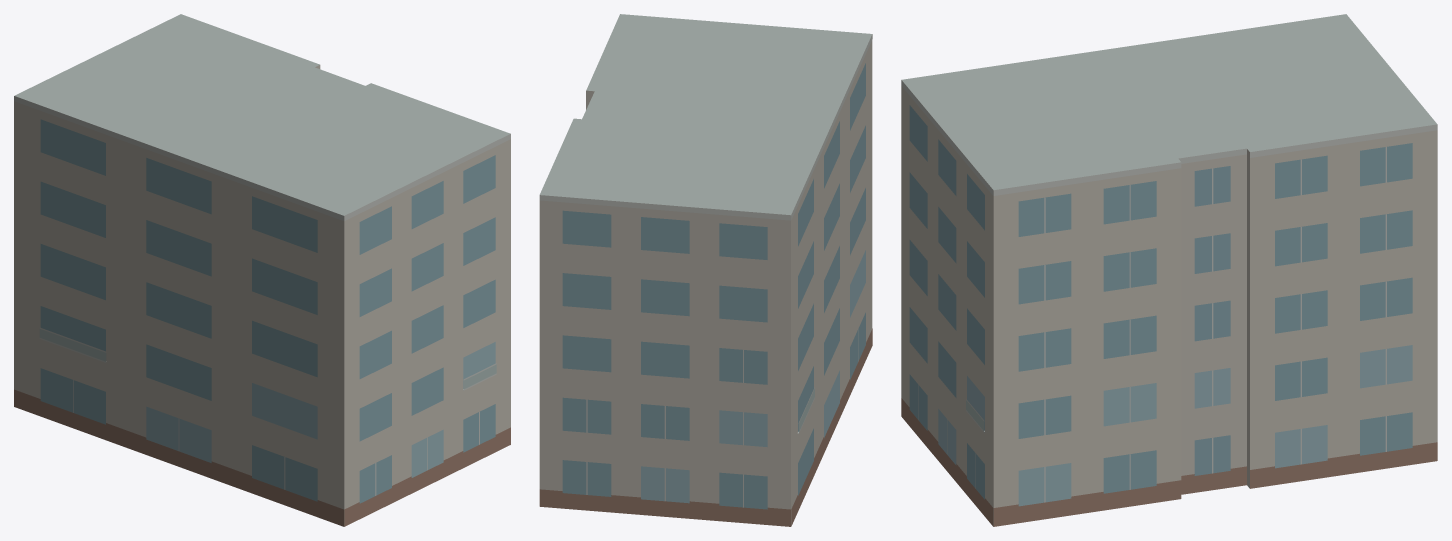
The model's file is survey-upis-32613670.glb.
The picture shows the model from 3 angles, left to right: view 1: azimuth 30°, elevation 25°; view 2: azimuth 150°, elevation 25°; view 3: azimuth 270°, elevation 25°; orthographic projection. The views are drawn at different scales.
Parts seen in each view (by area): view 1: survey-upis-32613670.tmp; view 2: survey-upis-32613670.tmp; view 3: survey-upis-32613670.tmp.
Boxes of the visible parts, x1=… form: survey-upis-32613670.tmp: x1=14, y1=14, x2=510, y2=526; survey-upis-32613670.tmp: x1=539, y1=14, x2=872, y2=526; survey-upis-32613670.tmp: x1=901, y1=14, x2=1437, y2=526.
Bounding box in the file's own units: 15.79 × 14.05 × 20.29.
